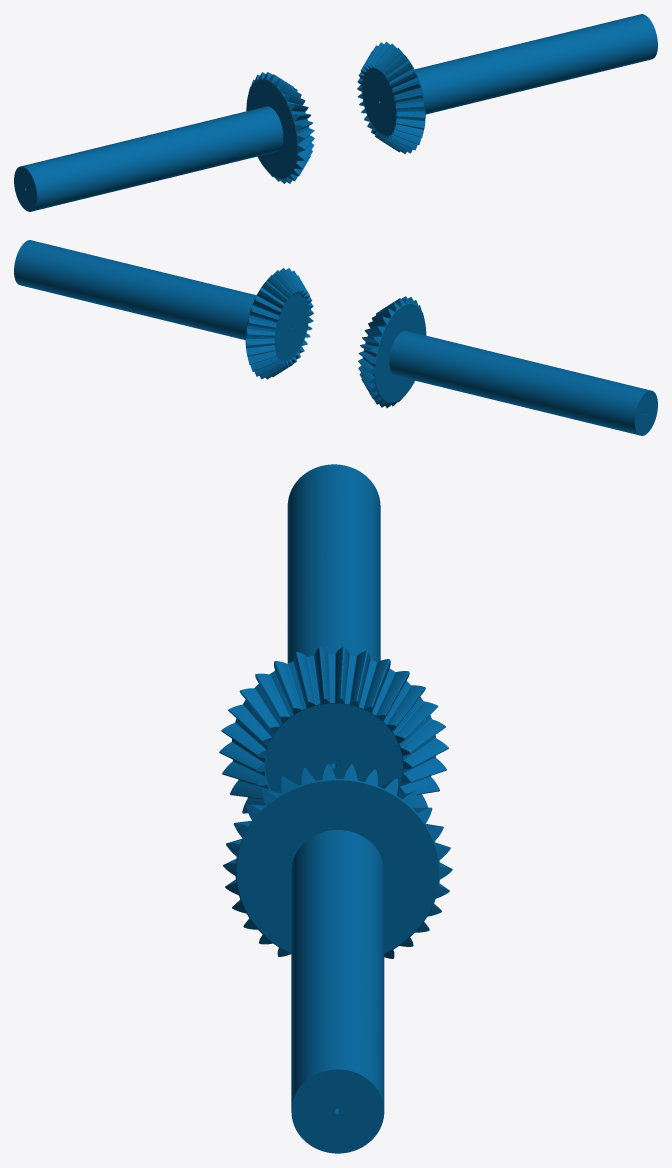
File: splitshafts.glb
3 renders of one model, top to bottom at view 1: azimuth 30°, elevation 25°; view 2: azimuth 150°, elevation 25°; view 3: azimuth 270°, elevation 25°, orthographic. The views are drawn at different scales.
Parts seen in each view (by area): view 1: gear_iso_Edited, gear_iso_Edited:1; view 2: gear_iso_Edited, gear_iso_Edited:1; view 3: gear_iso_Edited:1, gear_iso_Edited.
Part boxes in pixels (<box>): gear_iso_Edited: <box>14,72,314,211</box>; gear_iso_Edited:1: <box>357,14,657,153</box>; gear_iso_Edited: <box>358,296,657,435</box>; gear_iso_Edited:1: <box>14,240,313,379</box>; gear_iso_Edited:1: <box>223,764,452,1153</box>; gear_iso_Edited: <box>219,464,448,813</box>.
Bounding box in the file's own units: 0.2005 × 0.0321 × 0.0327.
